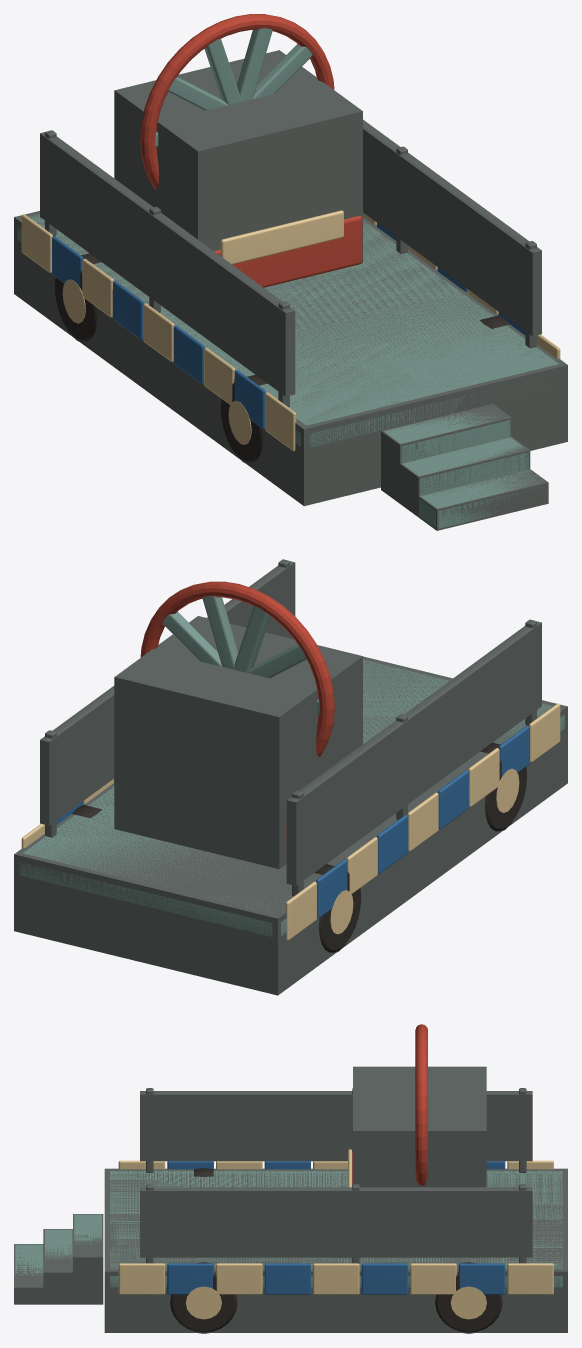
Rendered from founders-parade-float.glb.
3 renders of one model, top to bottom at view 1: azimuth 30°, elevation 25°; view 2: azimuth 150°, elevation 25°; view 3: azimuth 270°, elevation 25°, orthographic. The views are drawn at different scales.
Parts seen in each view (by area): view 1: Painted parade deck, COL_deck, COL_display, COL_rail_-1, COL_rail_1, Ivory canvas, Oxide red trim, Blue pleated bunting, Parade trailer steel, COL_step_2, COL_step_0, Parade trailer rubber (+1 smaller); view 2: COL_deck, COL_display, COL_rail_-1, Painted parade deck, COL_rail_1, Ivory canvas, Oxide red trim, Blue pleated bunting, Parade trailer steel, Parade trailer rubber; view 3: COL_deck, COL_rail_1, COL_rail_-1, COL_display, Painted parade deck, Ivory canvas, Blue pleated bunting, Parade trailer rubber, Parade trailer steel, COL_step_0, Oxide red trim, COL_step_1 (+1 smaller).
Part boxes in pixels (bbox=[...]): Painted parade deck: bbox=[17, 28, 558, 528]; COL_deck: bbox=[14, 211, 567, 506]; COL_display: bbox=[114, 50, 362, 263]; COL_rail_-1: bbox=[40, 132, 295, 396]; COL_rail_1: bbox=[363, 119, 541, 336]; Ivory canvas: bbox=[21, 210, 560, 451]; Oxide red trim: bbox=[140, 14, 362, 287]; Blue pleated bunting: bbox=[52, 223, 525, 428]; Parade trailer steel: bbox=[42, 121, 539, 407]; COL_step_2: bbox=[418, 469, 548, 530]; COL_step_0: bbox=[381, 404, 511, 503]; Parade trailer rubber: bbox=[55, 253, 509, 463]; COL_deck: bbox=[14, 656, 567, 995]; COL_display: bbox=[114, 616, 362, 869]; COL_rail_-1: bbox=[286, 621, 541, 885]; Painted parade deck: bbox=[19, 596, 564, 936]; COL_rail_1: bbox=[40, 561, 295, 825]; Ivory canvas: bbox=[21, 703, 560, 940]; Oxide red trim: bbox=[140, 581, 334, 861]; Blue pleated bunting: bbox=[56, 725, 529, 918]; Parade trailer steel: bbox=[42, 559, 539, 896]; Parade trailer rubber: bbox=[72, 742, 527, 952]; COL_deck: bbox=[104, 1168, 567, 1332]; COL_rail_1: bbox=[140, 1187, 532, 1257]; COL_rail_-1: bbox=[140, 1091, 532, 1161]; COL_display: bbox=[353, 1066, 486, 1187]; Painted parade deck: bbox=[15, 1171, 562, 1287]; Ivory canvas: bbox=[118, 1149, 553, 1319]; Blue pleated bunting: bbox=[167, 1161, 505, 1294]; Parade trailer rubber: bbox=[170, 1168, 502, 1333]; Parade trailer steel: bbox=[140, 1088, 531, 1263]; COL_step_0: bbox=[73, 1214, 103, 1304]; Oxide red trim: bbox=[352, 1024, 427, 1185]; COL_step_1: bbox=[43, 1229, 73, 1304].
Size of the model in its own units: 2.52 by 2.81 by 5.65.
